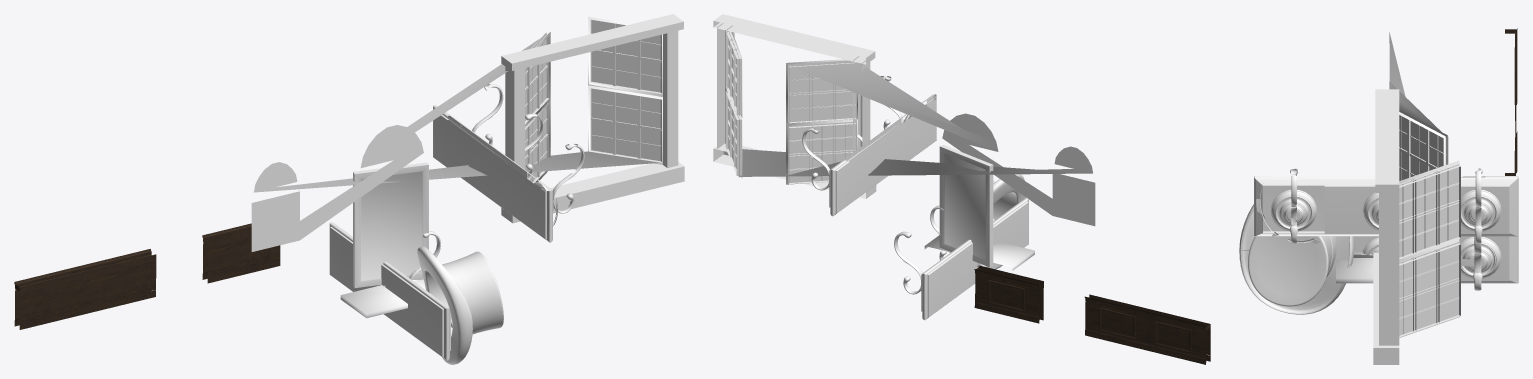
File: WallDecoration 1.fbx
The picture shows the model from 3 angles, left to right: view 1: azimuth 30°, elevation 25°; view 2: azimuth 150°, elevation 25°; view 3: azimuth 270°, elevation 25°; orthographic projection. The views are drawn at different scales.
Parts seen in each view (by area): view 1: object_3, Window, object_1, object_1.002, object_0, Walls.001, Walls, object_0.001; view 2: object_3, Window, object_1.002, object_0, Walls.001, object_0.001, Glass2, object_1, Walls, Wainscoting.001, Wainscoting, Glass4; view 3: Window, object_0, object_1, Glass3, Glass1, object_3, object_0.001, object_1.002, Walls.001.
Boxes of the visible parts, x1,y1,x2,y2 form: object_3: [251, 20, 660, 251]; Window: [501, 14, 684, 223]; object_1: [329, 222, 503, 364]; object_1.002: [340, 162, 428, 318]; object_0: [433, 84, 584, 242]; Walls.001: [14, 249, 156, 329]; Walls: [202, 223, 280, 283]; object_0.001: [331, 223, 452, 360]; object_3: [737, 61, 1095, 226]; Window: [713, 14, 876, 198]; object_1.002: [924, 145, 1034, 270]; object_0: [802, 76, 936, 216]; Walls.001: [1084, 294, 1210, 364]; object_0.001: [896, 198, 1028, 318]; Glass2: [788, 60, 855, 122]; object_1: [894, 174, 1028, 320]; Walls: [974, 265, 1043, 323]; Wainscoting.001: [1099, 307, 1191, 352]; Wainscoting: [988, 280, 1024, 311]; Glass4: [788, 122, 850, 183]; Window: [1373, 89, 1460, 364]; object_0: [1254, 168, 1518, 244]; object_1: [1239, 204, 1518, 314]; Glass3: [1399, 243, 1460, 337]; Glass1: [1399, 164, 1459, 257]; object_3: [1389, 32, 1459, 263]; object_0.001: [1354, 236, 1513, 290]; object_1.002: [1336, 252, 1373, 283]; Walls.001: [1505, 28, 1517, 136].
Size of the model in its own units: 1478 by 574 by 519.
